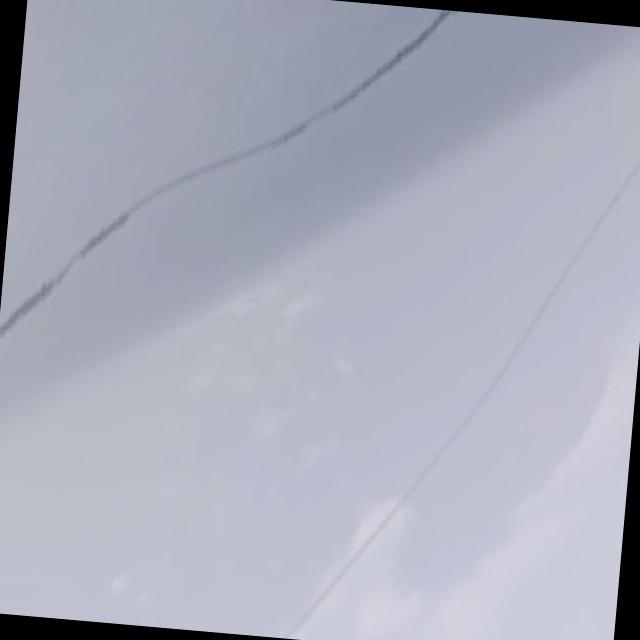crack: (1, 25, 366, 428), (315, 151, 629, 572)
